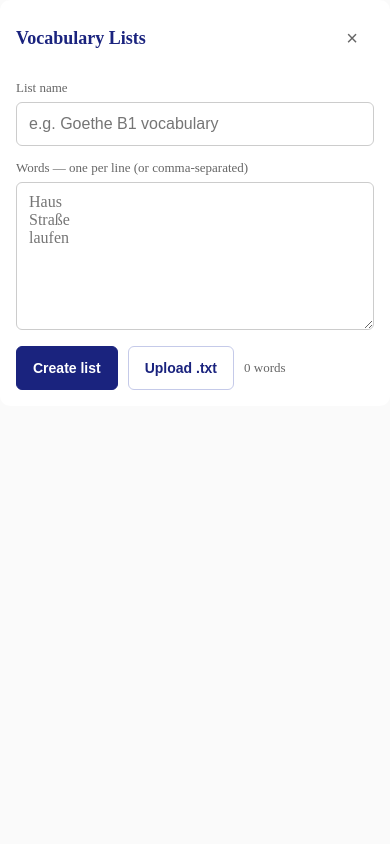
Test: WordListsPage › omits the ambiguous note when nothing is ambiguous
This screenshot has width=390, height=844.
Type "Haus" into the text box with test id "word-list-input" at (195, 256), box top-left (16, 182), bottom-right (374, 330)
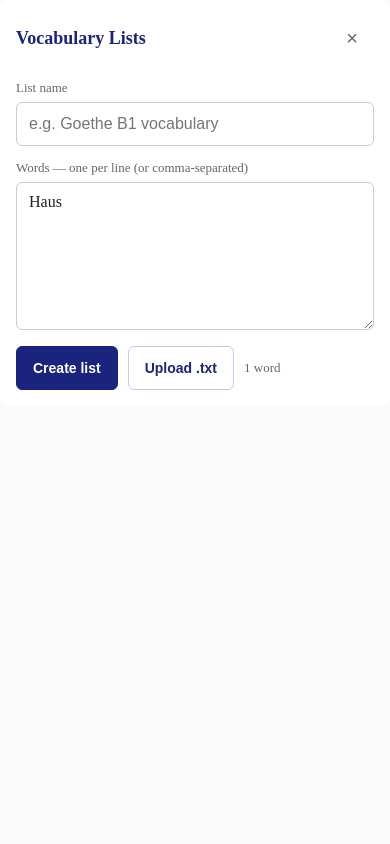
Click the button with test id "word-list-create" at (67, 368), box top-left (16, 346), bottom-right (118, 390)
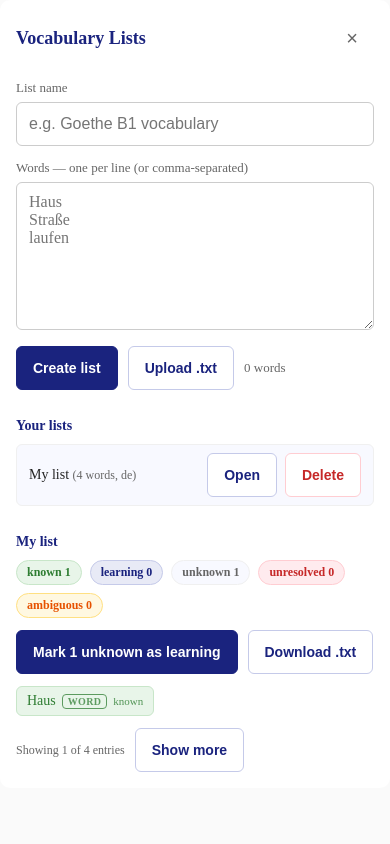
Now the element with test id "word-list-detail" is shown, box top-left (16, 534), bottom-right (374, 772)
